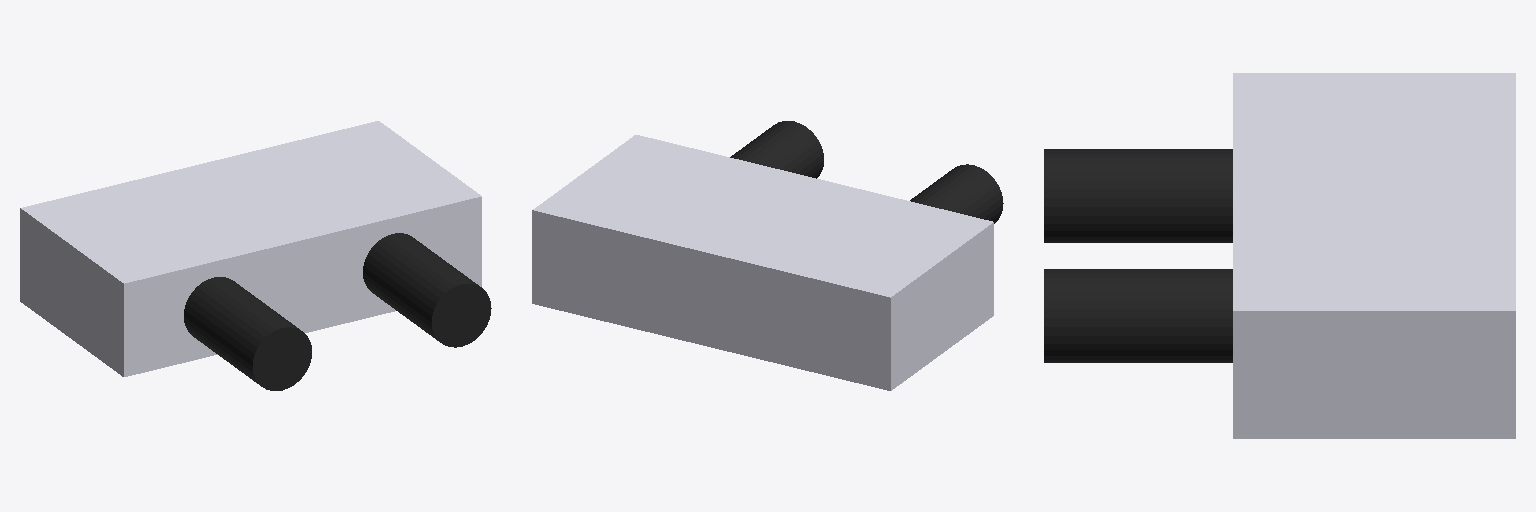
robot.urdf — door:
<?xml version="1.0" ?>
<robot name="door">
  <link name="world"/>

  <joint name="palm_to_world" type="fixed">
    <parent link="world"/>
    <child link="palm"/>
    <origin xyz="0.5 0.45 0.5" rpy="0 0 0" />
  </joint>

  <link name="palm">
    <inertial>
       <origin rpy="0 0 0" xyz="0 0 0"/>
       <mass value="0.01125"/>
       <inertia ixx="2.83203125E-06" ixy="0" ixz="-3.38813179E-22" iyy="7.83203125E-06" iyz="8.47032947E-23" izz="1.06250000E-05"/>
    </inertial>
    <visual>
      <origin rpy="0 0 0" xyz="0 0 0"/>
      <geometry> <mesh filename="palm.obj" scale="1.0 1.0 1.0"/> </geometry>
      <material name="white"> <color rgba="0.9 0.9 0.95 1"/> </material>
    </visual>
    <collision>
      <origin rpy="0 0 0" xyz="0 0 0"/>
      <geometry> <mesh filename="palm.obj" scale="1.0 1.0 1.0"/> </geometry>
    </collision>
  </link>

  <joint name="finger1_to_palm" type="prismatic">
    <parent link="palm"/>
    <child link="finger1"/>
    <origin xyz="-0.15 -0.25 0.0" rpy="0 0 0" />
    <axis
      xyz="1 0 0" />
    <limit
      lower="-3.0"
      upper="3.0"
      effort="0"
      velocity="10.0" />
  </joint>

  <link name="finger1">
    <inertial>
       <origin rpy="0 0 0" xyz="0 0 0"/>
       <mass value="1.0"/>
       <inertia ixx="1.0" ixy="0" ixz="0" iyy="1.0" iyz="0" izz="1.0"/>
    </inertial>
    <visual>
      <origin rpy="0 0 0" xyz="0 0 0"/>
      <geometry> <mesh filename="finger.obj" scale="1.0 1.0 1.0"/> </geometry>
      <material name="black"> <color rgba="0.2 0.2 0.2 1.0"/> </material>
    </visual>
    <collision>
      <origin rpy="0 0 0" xyz="0 0 0"/>
      <geometry> <mesh filename="finger.obj" scale="1.0 1.0 1.0"/> </geometry>
    </collision>
  </link>
  
  <joint name="finger2_to_palm" type="prismatic">
    <parent link="palm"/>
    <child link="finger2"/>
    <origin xyz="0.15 -0.25 0.0" rpy="0 0 0" />
    <axis
      xyz="1 0 0" />
    <limit
      lower="-3.0"
      upper="3.0"
      effort="0"
      velocity="10.0" />
  </joint>

  <link name="finger2">
    <inertial>
       <origin rpy="0 0 0" xyz="0 0 0"/>
       <mass value="1.0"/>
       <inertia ixx="1.0" ixy="0" ixz="0" iyy="1.0" iyz="0" izz="1.0"/>
    </inertial>
    <visual>
      <origin rpy="0 0 0" xyz="0 0 0"/>
      <geometry> <mesh filename="finger.obj" scale="1.0 1.0 1.0"/> </geometry>
      <material name="black"> <color rgba="0.2 0.2 0.2 1.0"/> </material>
    </visual>
    <collision>
      <origin rpy="0 0 0" xyz="0 0 0"/>
      <geometry> <mesh filename="finger.obj" scale="1.0 1.0 1.0"/> </geometry>
    </collision>
  </link>
</robot>

--- Facts derived from the render (not from the file) ---
3 views of the same robot in one strip: view 1: azimuth 30°, elevation 25°; view 2: azimuth 150°, elevation 25°; view 3: azimuth 270°, elevation 25° (orthographic).
Model door with 4 links and 3 joints (2 prismatic, 1 fixed), rooted at world, posed every joint at zero.
Links seen in each view (by area): view 1: palm, finger1, finger2; view 2: palm, finger1, finger2; view 3: palm, finger1, finger2.
Link boxes in pixels (x1,y1,x2,y2): palm: (20, 121, 481, 376); finger1: (184, 277, 311, 390); finger2: (363, 233, 491, 347); palm: (532, 135, 993, 390); finger1: (910, 164, 1003, 223); finger2: (730, 121, 823, 178); palm: (1233, 73, 1515, 438); finger1: (1044, 149, 1232, 242); finger2: (1044, 269, 1232, 362).
Bounding box of the posed robot: 0.6 × 0.5 × 0.15 m (x, y, z).
Meshes: 2 distinct files referenced, 3 mesh visuals loaded (2 OBJ).